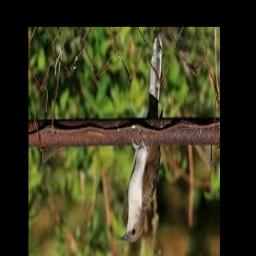Cuckoo: (120, 35, 162, 243)
